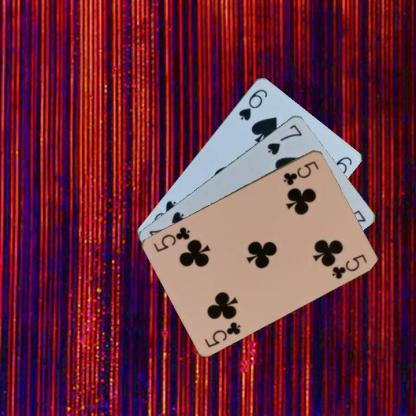5c: (202, 318, 242, 348), (280, 158, 320, 186)
6s: (235, 86, 268, 122)
7s: (264, 121, 304, 156)
